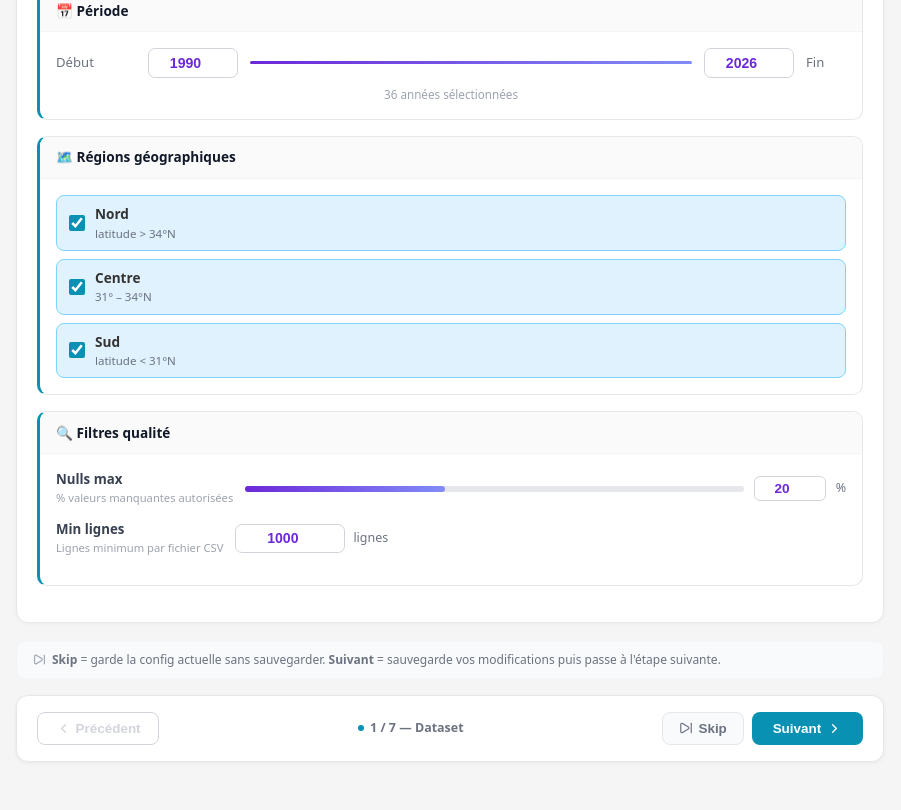
it: TEST 6 — OrchestratorWizard : réinitialisation complète › le bouton Recommencer ramène à l'étape 1 depuis l'étape 3
(page scrolled)
Click the button "Skip" at coordinates (703, 728), box top-left (662, 712), bottom-right (744, 745)
(page scrolled)
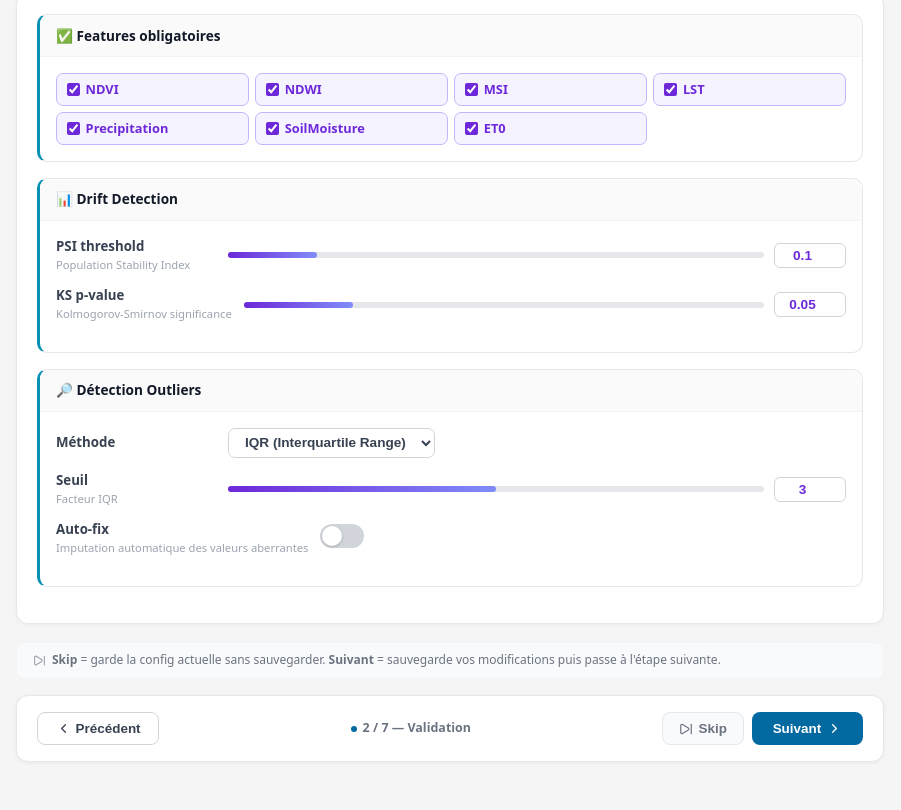
Click the button "Skip" at coordinates (703, 729), box top-left (662, 712), bottom-right (744, 745)
(page scrolled)
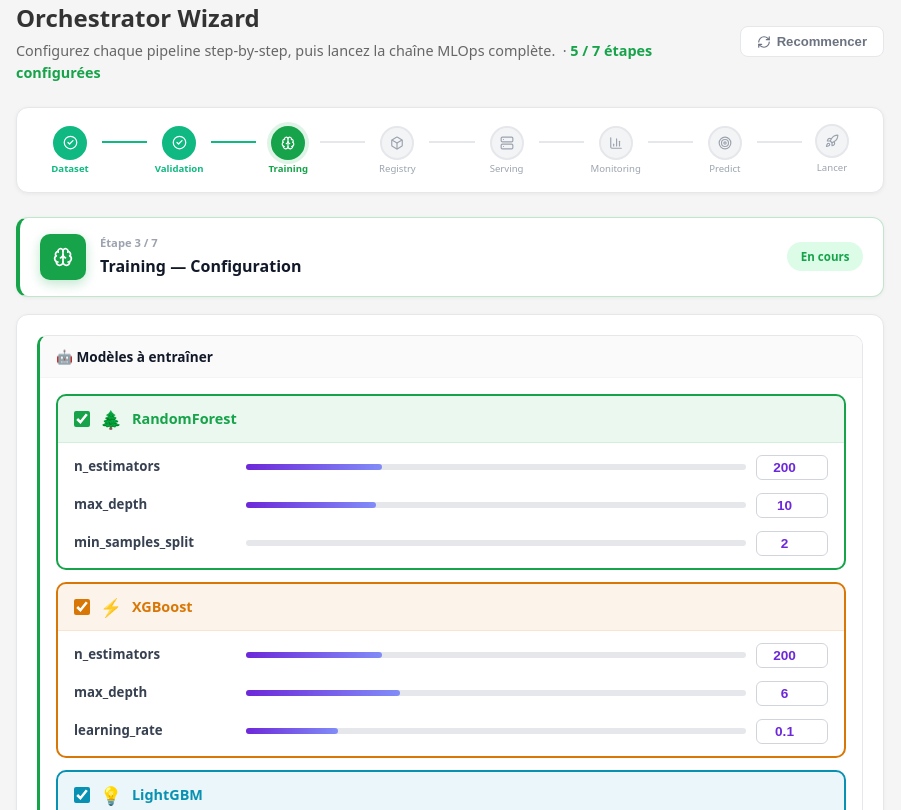
Check: the text "Training — Configuration" is shown, box top-left (100, 255), bottom-right (302, 277)
Click the button "Recommencer" at coordinates (812, 42), box top-left (740, 26), bottom-right (884, 57)
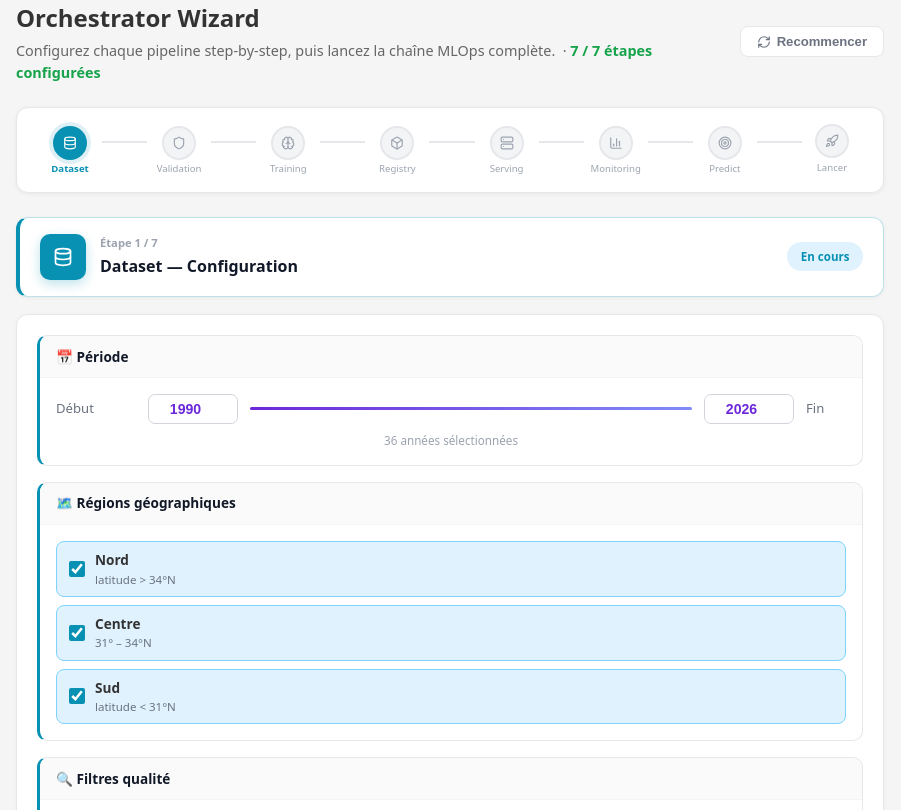
Check: the text "Dataset — Configuration" is shown, box top-left (100, 255), bottom-right (298, 277)
Check: the text "Étape 1 / 7" is shown, box top-left (100, 235), bottom-right (158, 250)
